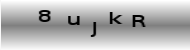8: (37, 9, 51, 23)
J: (88, 20, 97, 38)
R: (131, 14, 147, 29)
k: (109, 10, 122, 25)
u: (67, 15, 81, 26)
